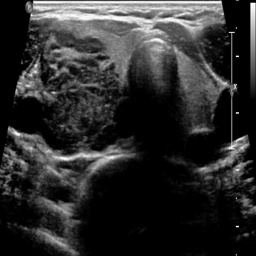mass: (42, 31, 118, 149)
